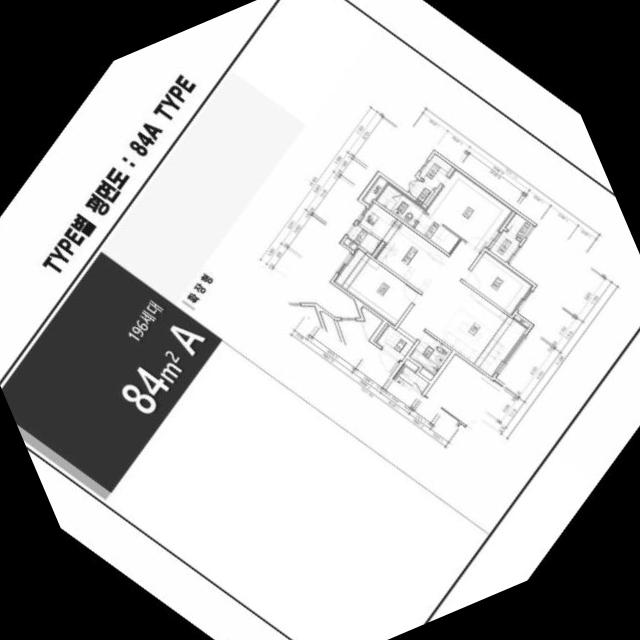background: (0, 0, 640, 640)
space_balconi: (419, 153, 452, 187), (489, 229, 520, 261), (348, 224, 381, 254)
space_bedroom: (426, 168, 513, 251), (334, 247, 418, 325), (464, 250, 533, 314)
space_dressroom: (414, 212, 460, 253)
space_front: (374, 322, 414, 360)
space_kitchen: (360, 201, 449, 292)
space_living_room: (396, 239, 527, 376)
space_other: (337, 306, 399, 376), (362, 174, 388, 204), (410, 179, 434, 203), (514, 314, 530, 327), (343, 237, 357, 251), (419, 367, 434, 380)
space_outdoor_room: (505, 212, 533, 239)
space_toilet: (376, 183, 424, 226), (409, 331, 452, 374)
